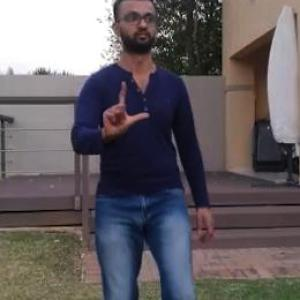land_hand: (95, 74, 152, 144)
